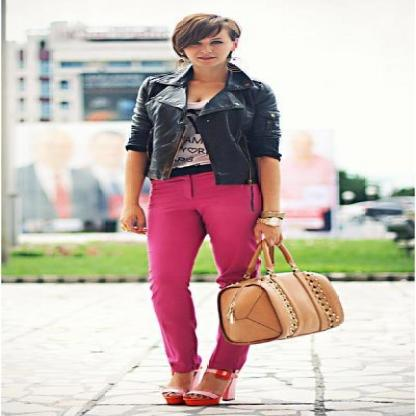bag: (221, 242, 343, 346)
jacket: (126, 65, 281, 191)
pants: (142, 172, 270, 374)
shirt: (171, 117, 210, 174)
shoe: (162, 393, 222, 407)
